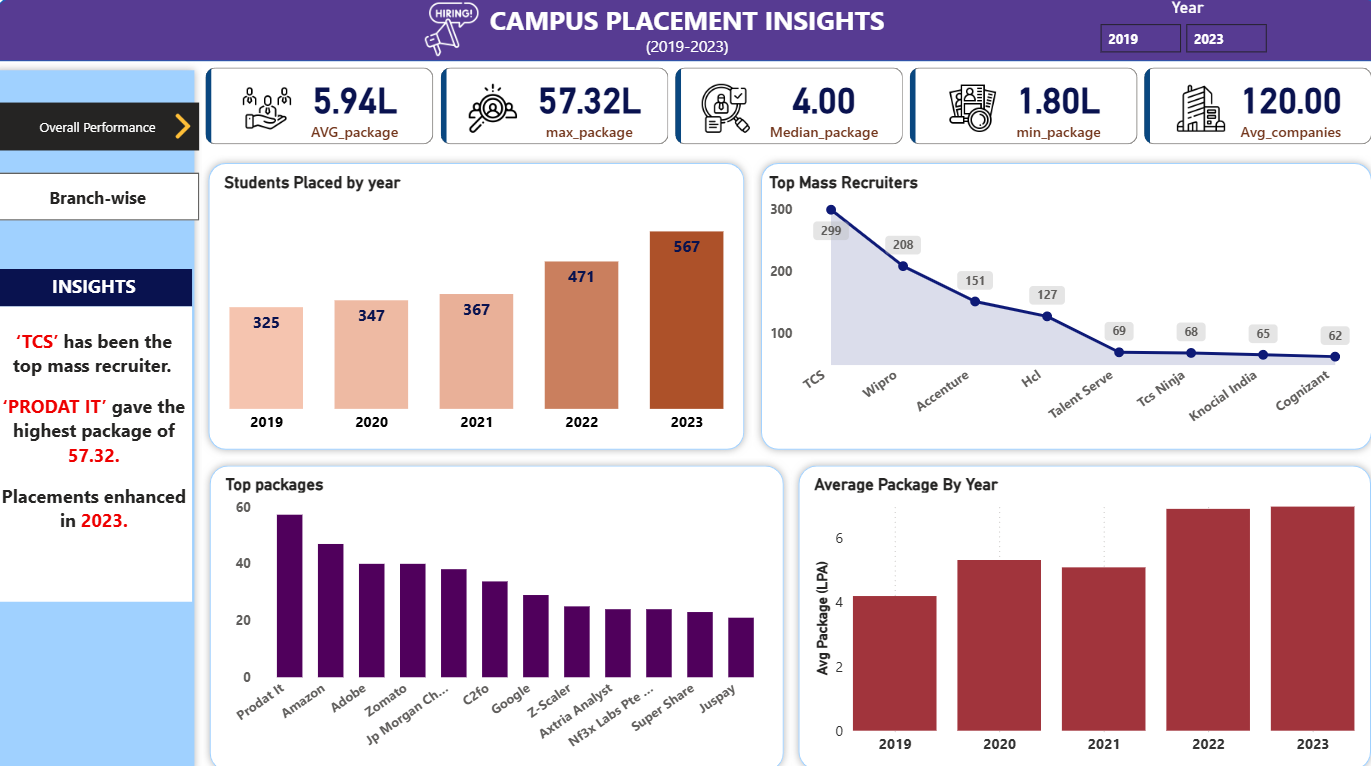

The dashboard page shown, as its layout file describes it:
{"tool":"powerbi","page":{"name":"Overall Performance","canvas":[1500,820],"ordinal":0},"visuals":[{"type":"cardVisual","fields":{"Data":["placement company_summary.AVG_package","placement company_summary.max_package","placement company_summary.Median_package","placement company_summary.min_package","placement company_summary.Avg Companies Per Year"]},"box":[250,75.8,1209.3,89.9],"z":0},{"type":"shape","box":[40,9.3,1420,65.3],"z":1000},{"type":"textbox","box":[40,9.3,1420,65.3],"z":2000},{"type":"textbox","box":[40,42.7,1420,32],"z":3000},{"type":"image","box":[472,9.3,70.7,65.3],"z":4000},{"type":"shape","box":[250,171.3,566,310.4],"z":5000},{"type":"columnChart","fields":{"Category":["placement student_placements.year"],"Y":["placement student_placements.Students Placed"]},"box":[269.7,188.2,528.1,276.7],"z":6000},{"type":"shape","box":[817.4,171.3,643.3,310.4],"z":7000},{"type":"areaChart","title":"Top Mass Recruiters","fields":{"Category":["placement company_summary.company_name"],"Y":["placement company_summary.Top5 Offers"]},"box":[828.7,188.2,620.8,276.7],"z":8000},{"type":"shape","box":[251.4,481.7,605.3,330.1],"z":9000},{"type":"columnChart","title":"Top packages","fields":{"Category":["placement company_summary.company_name"],"Y":["placement company_summary.CTC Value"]},"box":[271.1,498.6,570.2,294.9],"z":10000},{"type":"shape","box":[856.7,481.7,603.9,328.7],"z":11000},{"type":"clusteredColumnChart","title":"Average Package By Year ","fields":{"Category":["placement company_summary.year"],"Y":["placement company_summary.Avg Package (LPA)"]},"box":[875.5,498.1,564.8,297.8],"z":12000},{"type":"shape","box":[30.8,75.7,220.8,734.3],"z":13000},{"type":"textbox","box":[39.8,287.5,201.5,38.5],"z":14000},{"type":"textbox","box":[39.8,326.1,201.5,302.9],"z":15000},{"type":"slicer","title":"  Year","fields":{"Values":["placement company_summary.year"]},"box":[1161.7,9,204.1,66.8],"z":16000},{"type":"pageNavigator","box":[39.7,116.2,209.7,49.6],"z":17000},{"type":"pageNavigator","box":[39.7,188.4,209.7,49.6],"z":18000},{"type":"image","box":[213.9,123.3,35.4,35.4],"z":19000}]}

Visuals, with their boxes in screenshot pixels (x1, y1, x2, y2), scaled from the page's 1500x820 canvas onto the 1371x766 screenshot:
cardVisual - placement company_summary.AVG_package x placement company_summary.max_package: pyautogui.locateOnScreen(228, 71, 1334, 155)
shape: pyautogui.locateOnScreen(37, 9, 1334, 70)
textbox: pyautogui.locateOnScreen(37, 9, 1334, 70)
textbox: pyautogui.locateOnScreen(37, 40, 1334, 70)
image: pyautogui.locateOnScreen(431, 9, 496, 70)
shape: pyautogui.locateOnScreen(228, 160, 746, 450)
columnChart - placement student_placements.year x placement student_placements.Students Placed: pyautogui.locateOnScreen(247, 176, 729, 434)
shape: pyautogui.locateOnScreen(747, 160, 1335, 450)
"Top Mass Recruiters" areaChart: pyautogui.locateOnScreen(757, 176, 1325, 434)
shape: pyautogui.locateOnScreen(230, 450, 783, 758)
"Top packages" columnChart: pyautogui.locateOnScreen(248, 466, 769, 741)
shape: pyautogui.locateOnScreen(783, 450, 1335, 757)
"Average Package By Year " clusteredColumnChart: pyautogui.locateOnScreen(800, 465, 1316, 743)
shape: pyautogui.locateOnScreen(28, 71, 230, 757)
textbox: pyautogui.locateOnScreen(36, 269, 221, 305)
textbox: pyautogui.locateOnScreen(36, 305, 221, 588)
"  Year" slicer: pyautogui.locateOnScreen(1062, 8, 1248, 71)
pageNavigator: pyautogui.locateOnScreen(36, 109, 228, 155)
pageNavigator: pyautogui.locateOnScreen(36, 176, 228, 222)
image: pyautogui.locateOnScreen(196, 115, 228, 148)
